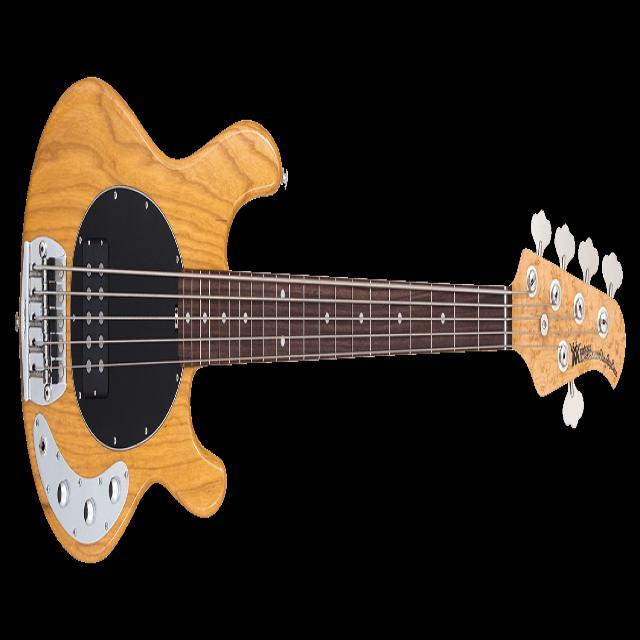bass: (16, 79, 625, 561)
